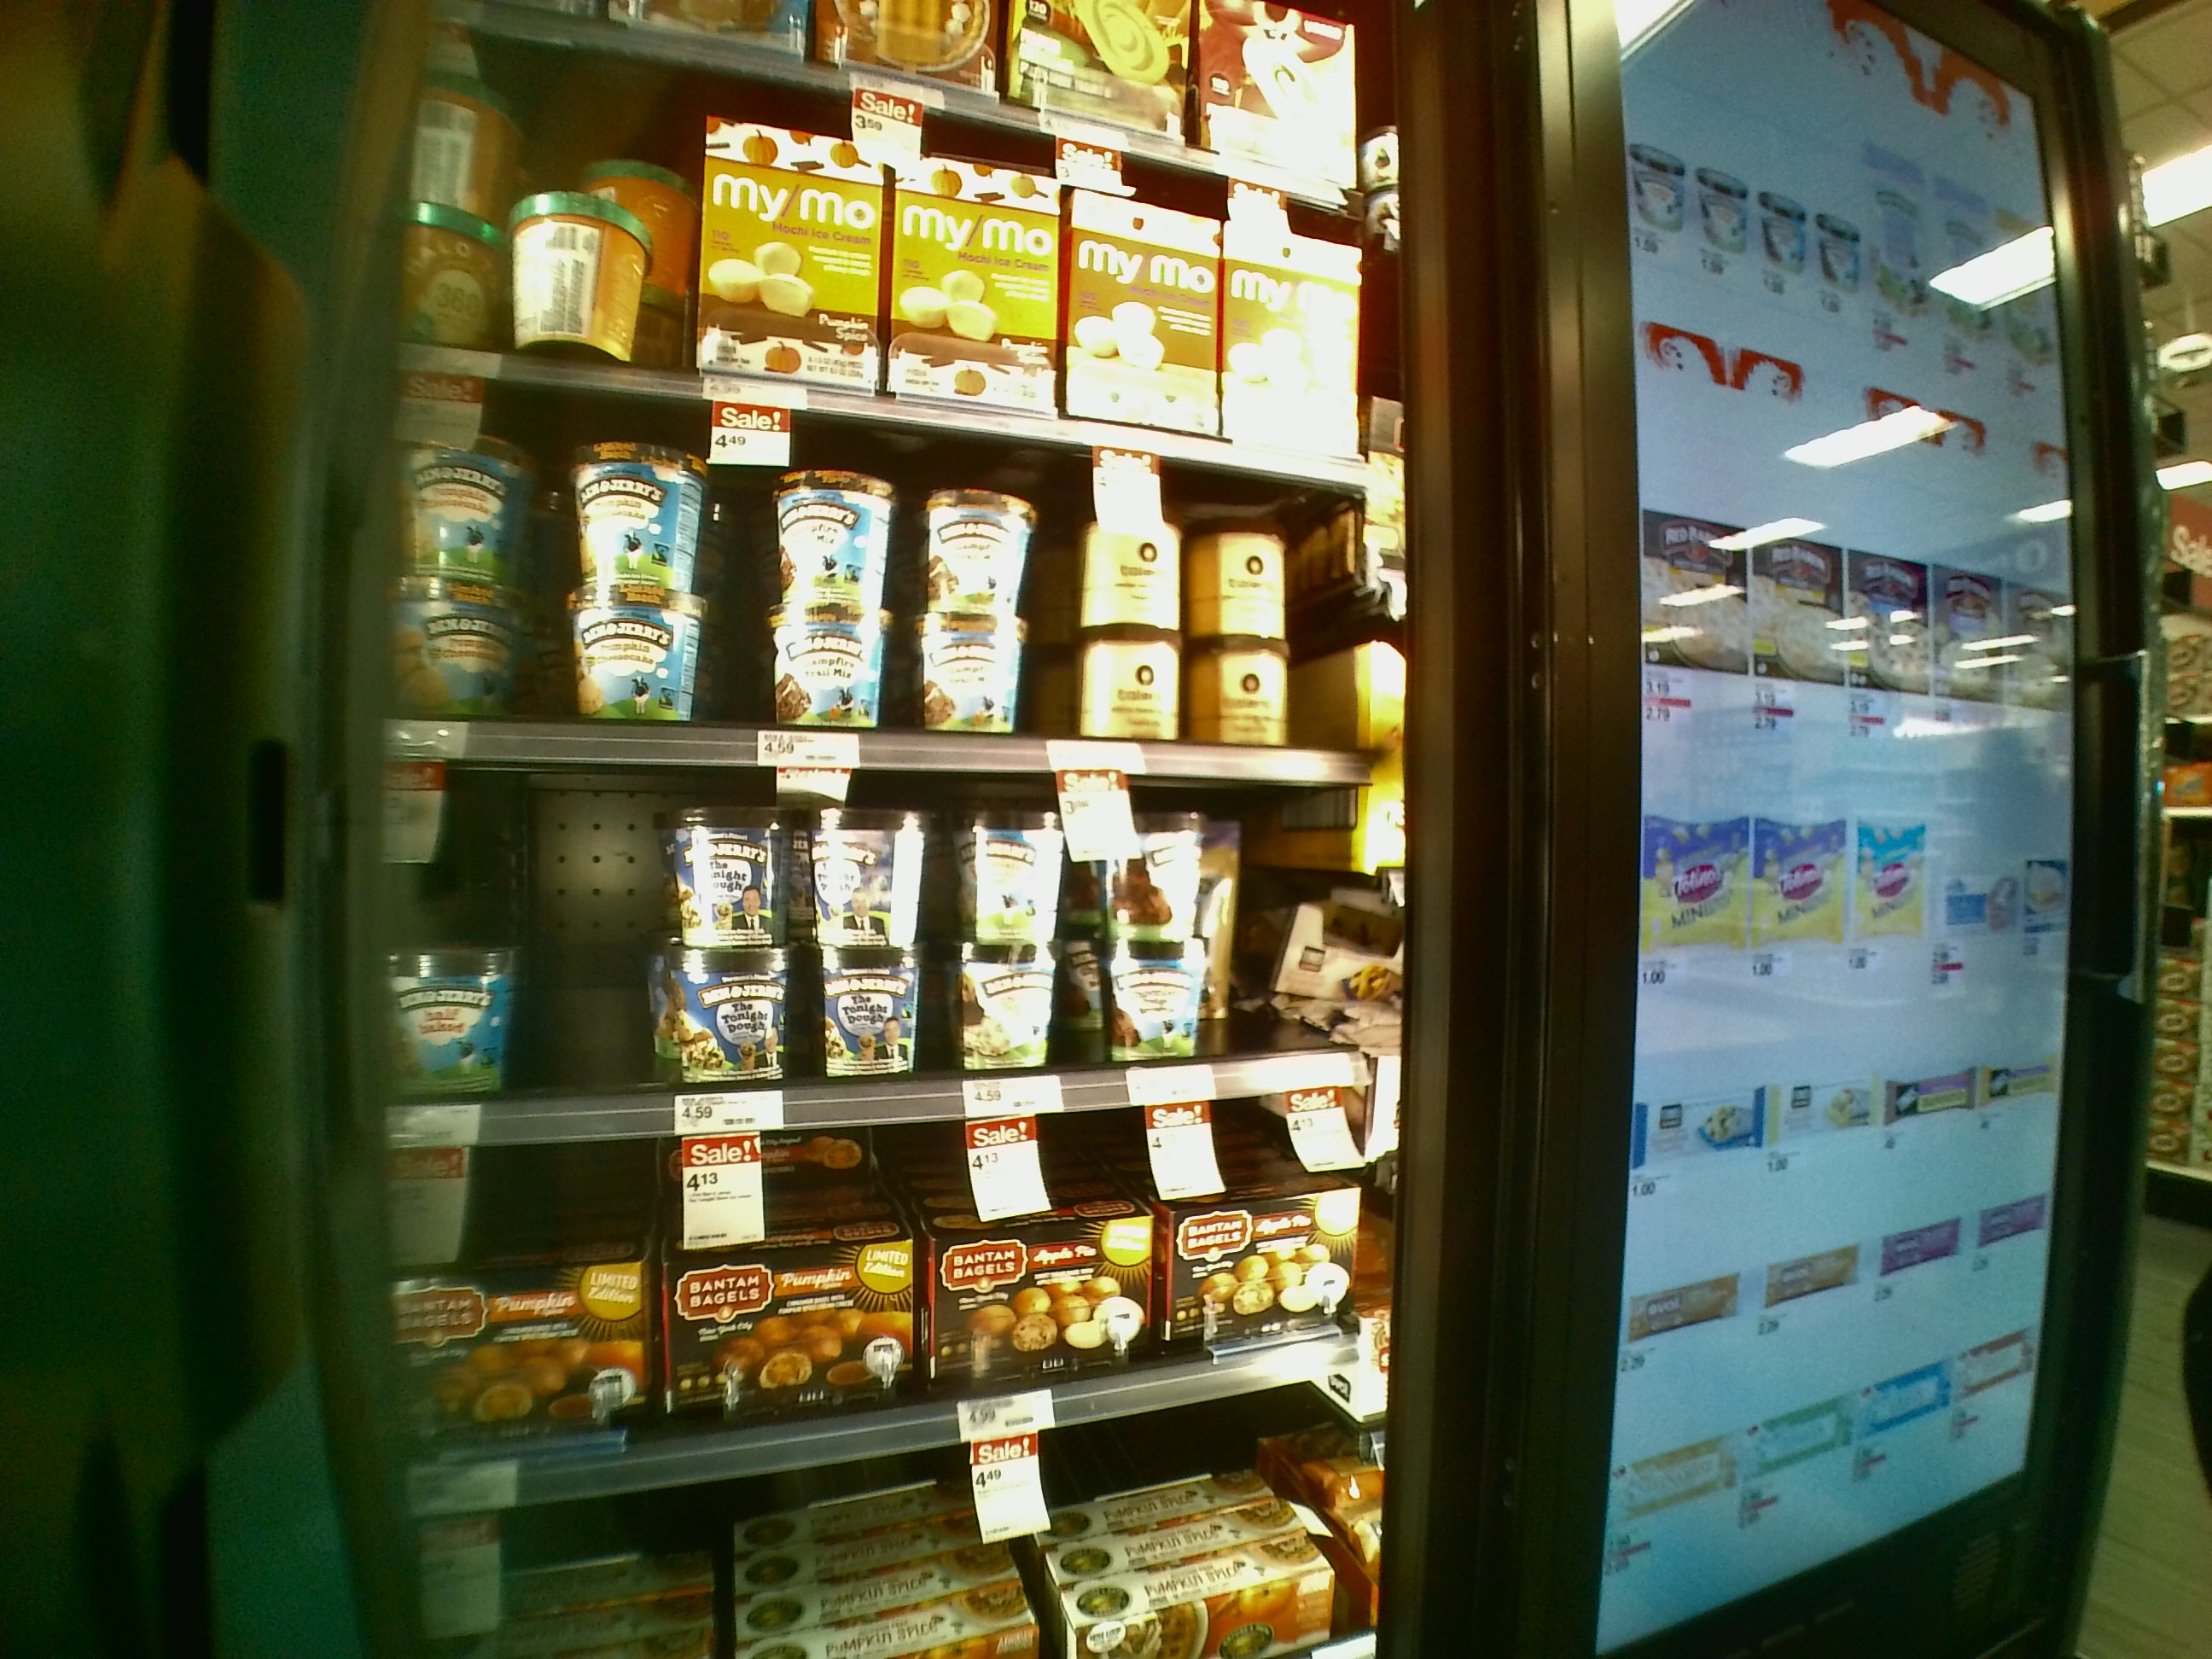shelf: (383, 352, 1406, 770), (347, 1100, 1404, 1481), (359, 741, 1407, 1101)
